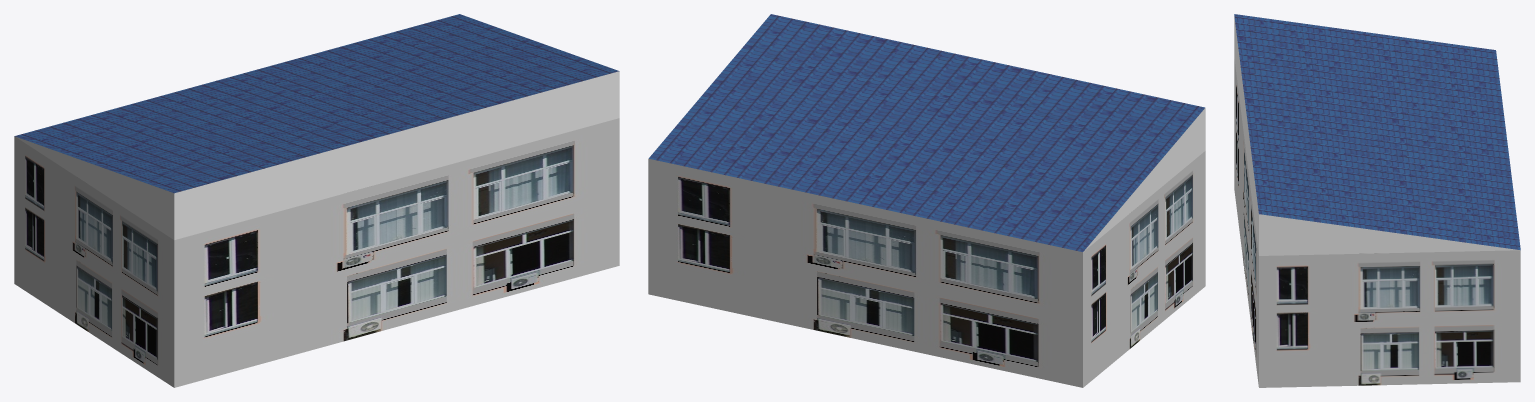
3 renders of one model, left to right at view 1: azimuth 30°, elevation 25°; view 2: azimuth 150°, elevation 25°; view 3: azimuth 270°, elevation 25°, orthographic. The views are drawn at different scales.
Parts seen in each view (by area): view 1: CityEngineMaterial_9_m, CityEngineMaterial_10_m, CityEngineMaterial_3_m; view 2: CityEngineMaterial_9_m, CityEngineMaterial_10_m, CityEngineMaterial_3_m; view 3: CityEngineMaterial_10_m, CityEngineMaterial_9_m, CityEngineMaterial_3_m.
Part boxes in pixels (left/top/right/bottom): CityEngineMaterial_9_m: left=14, top=118, right=619, bottom=387; CityEngineMaterial_10_m: left=14, top=14, right=619, bottom=193; CityEngineMaterial_3_m: left=15, top=71, right=619, bottom=240; CityEngineMaterial_9_m: left=648, top=151, right=1205, bottom=387; CityEngineMaterial_10_m: left=649, top=14, right=1204, bottom=251; CityEngineMaterial_3_m: left=1083, top=108, right=1205, bottom=251; CityEngineMaterial_10_m: left=1234, top=14, right=1520, bottom=250; CityEngineMaterial_9_m: left=1234, top=59, right=1520, bottom=387; CityEngineMaterial_3_m: left=1234, top=17, right=1519, bottom=255.
Size of the model in its own units: 33.02 by 13 by 19.42.
